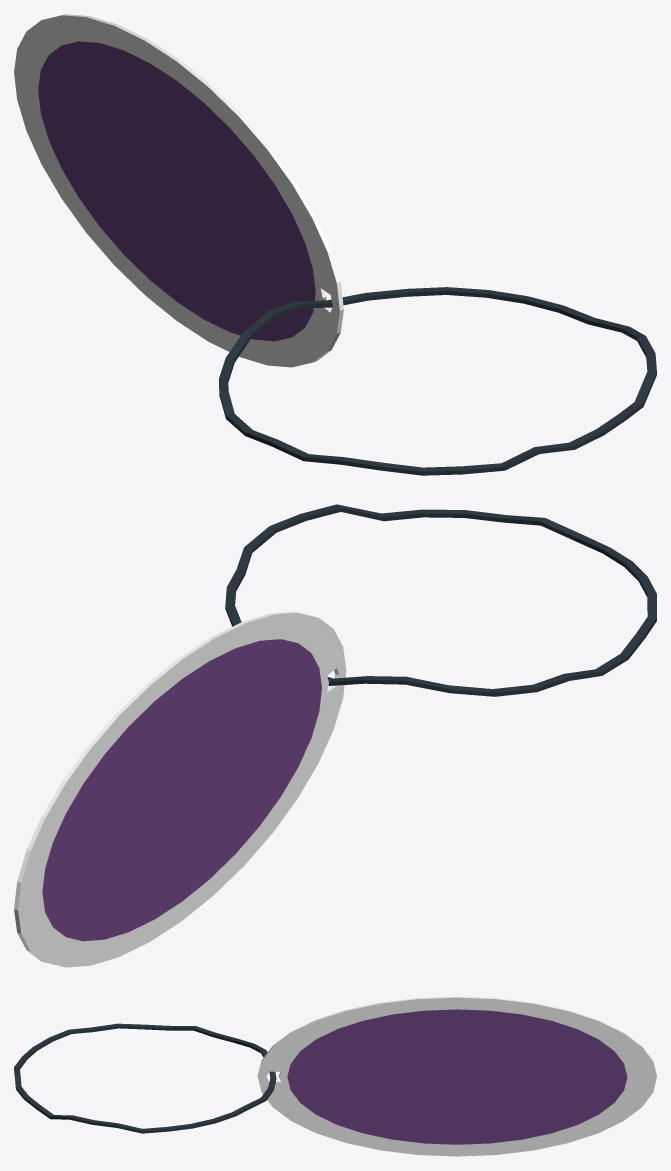
The model's file is PurpleOvalTag.fbx.
The picture shows the model from 3 angles, top to bottom: view 1: azimuth 30°, elevation 25°; view 2: azimuth 150°, elevation 25°; view 3: azimuth 270°, elevation 25°; orthographic projection. The views are drawn at different scales.
Parts seen in each view (by area): view 1: OvalTag.001; view 2: OvalTag.001; view 3: OvalTag.001.
Part boxes in pixels (x1,y1,x2,y2): OvalTag.001: [14, 14, 656, 475]; OvalTag.001: [14, 504, 656, 967]; OvalTag.001: [14, 996, 656, 1156].
Size of the model in its own units: 55.34 by 35.79 by 131.
